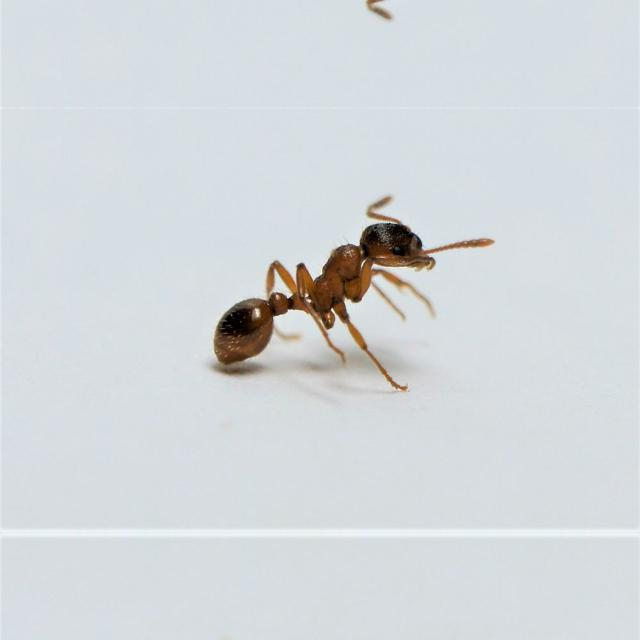Myrmica: (190, 164, 458, 398), (188, 0, 458, 50)
